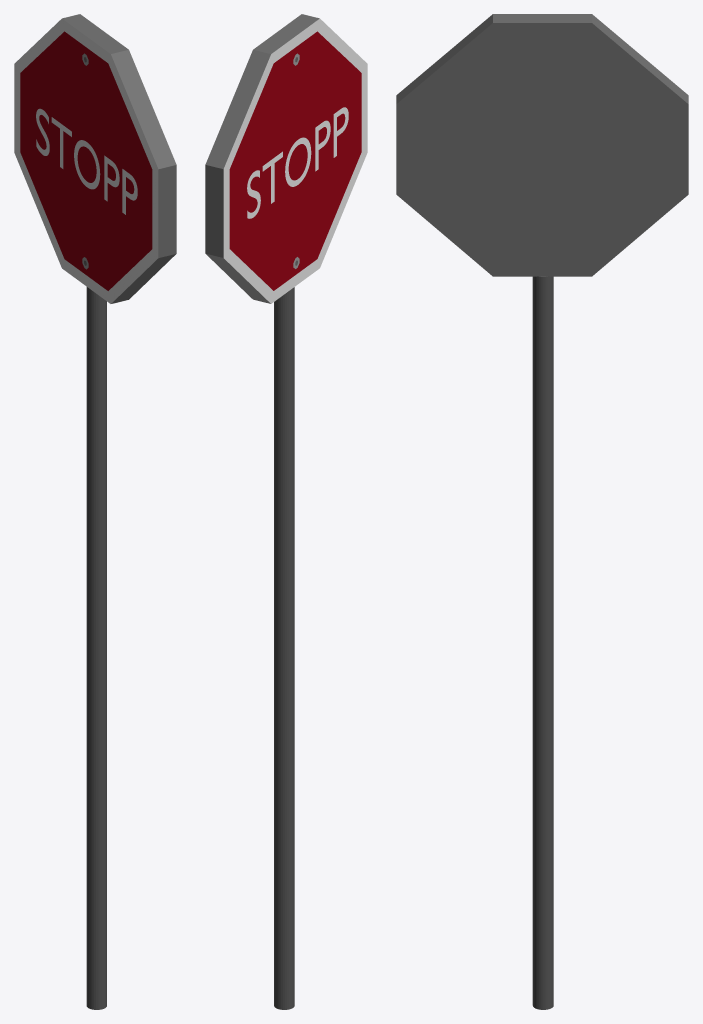
Rendered from stopp_3D.glb.
3 views of the same model, side by side, from view 1: azimuth 30°, elevation 25°; view 2: azimuth 150°, elevation 25°; view 3: azimuth 270°, elevation 25° (orthographic).
Parts seen in each view (by area): view 1: stopp_3D; view 2: stopp_3D; view 3: stopp_3D.
Part boxes in pixels (x1,y1,x2,y2): stopp_3D: (14,14,176,1009); stopp_3D: (205,14,367,1009); stopp_3D: (396,14,688,1009).
Bounding box in the file's own units: 0.1095 × 4.9 × 1.32.
2 materials, 2 textured.
